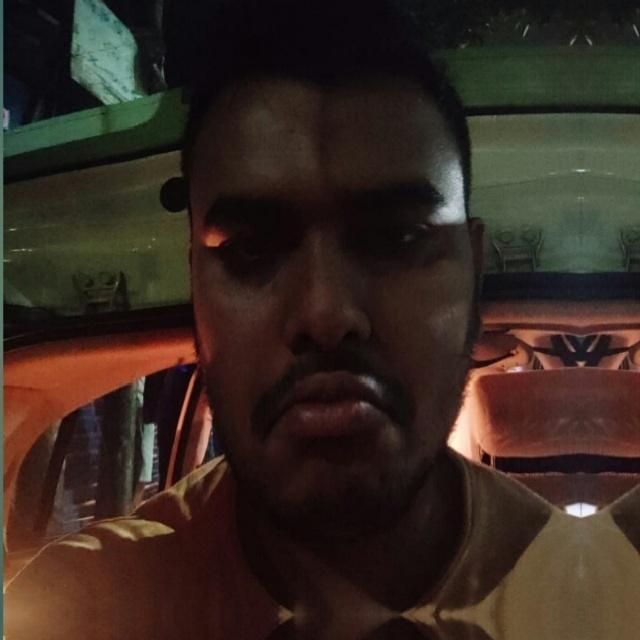Sad: (146, 105, 534, 573)
